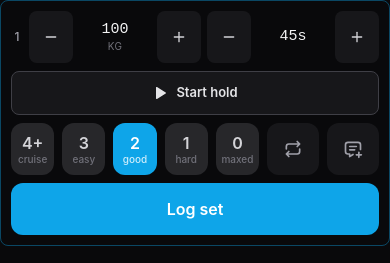
Scenario: SetLoggerRow hold lead-in countdown › cancelling the countdown returns to the idle Start state
Click the button with aria-label "Start hold timer" at (195, 93), box [11, 71, 379, 115]
Wait 2000 ms
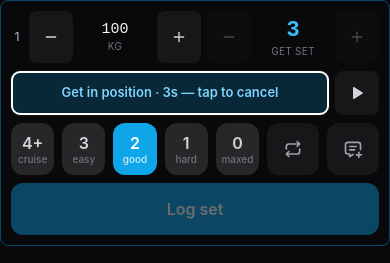
Click the button with aria-label "Cancel hold countdown" at (170, 93), box [11, 71, 329, 115]
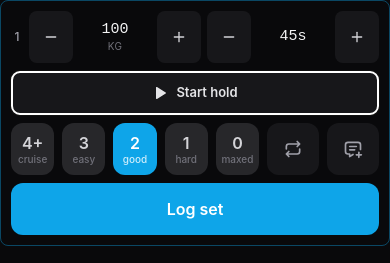
Expected: the button with aria-label "Start hold timer" is shown, [11, 71, 379, 115]
Expected: the element with test id "hold-countdown" is gone
